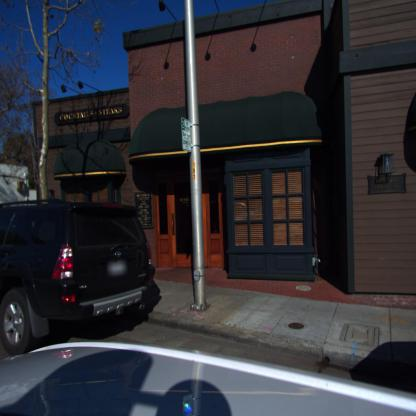car: (0, 200, 162, 354)
